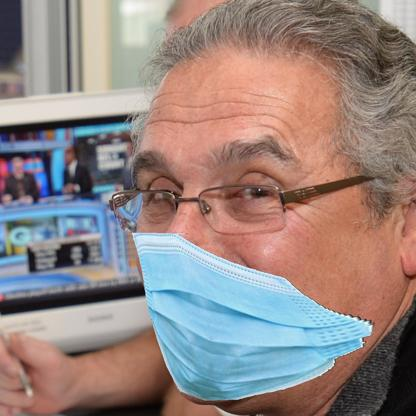mask: (127, 229, 374, 400)
